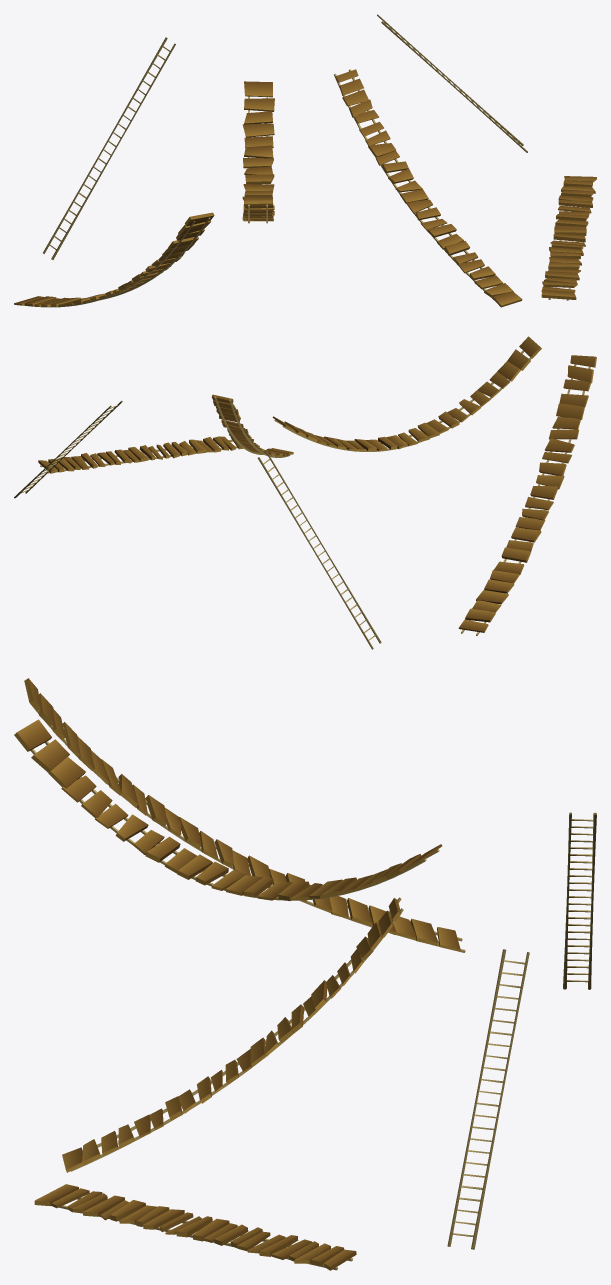
Rendered from BRIDGE_LADDER.fbx.
3 views of the same model, one above another, from view 1: azimuth 30°, elevation 25°; view 2: azimuth 150°, elevation 25°; view 3: azimuth 270°, elevation 25° (orthographic). The views are drawn at different scales.
Parts seen in each view (by area): view 1: BRIDGE_LADDER; view 2: BRIDGE_LADDER; view 3: BRIDGE_LADDER.
Boxes of the visible parts, left/top/right/bottom form: BRIDGE_LADDER: left=14, top=14, right=596, bottom=307; BRIDGE_LADDER: left=14, top=336, right=596, bottom=649; BRIDGE_LADDER: left=14, top=678, right=596, bottom=1270.
Bounding box in the file's own units: 36.87 × 12.74 × 24.22.
